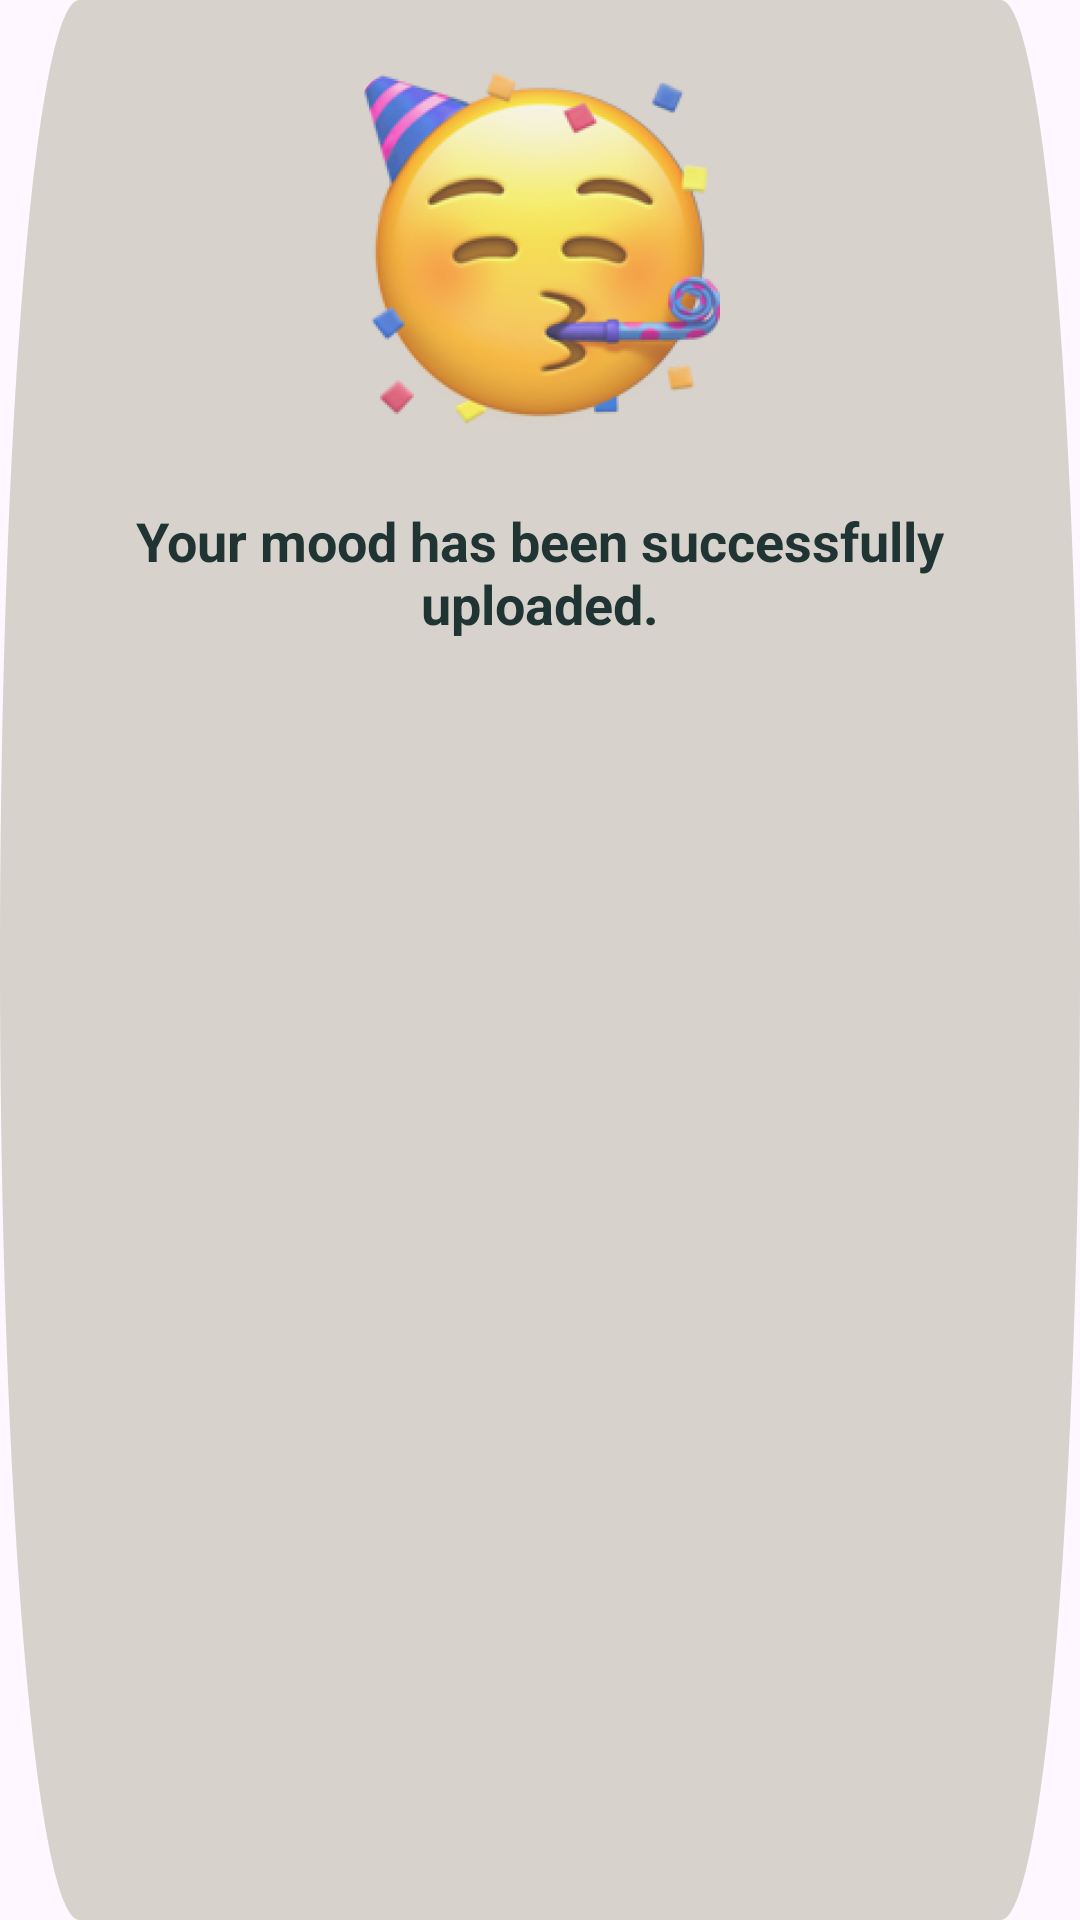

Icons on this 1080 x 1920 Android screen, each with its box as bbox(x1, y1, x2, y2):
birthday: bbox(364, 72, 720, 423)
